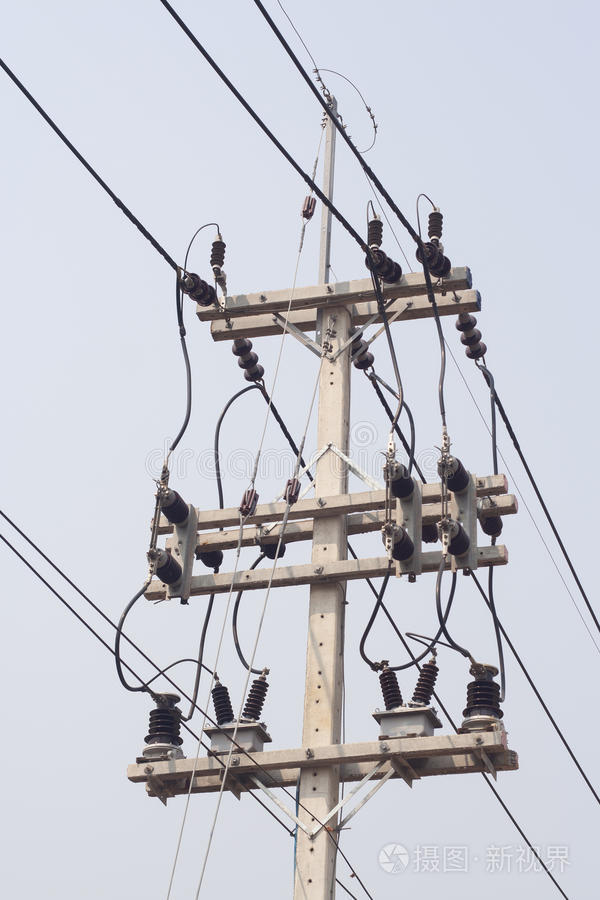insulator: (229, 337, 266, 385), (455, 315, 490, 362), (350, 328, 375, 371), (205, 239, 227, 270), (364, 217, 386, 248), (425, 208, 447, 239)
